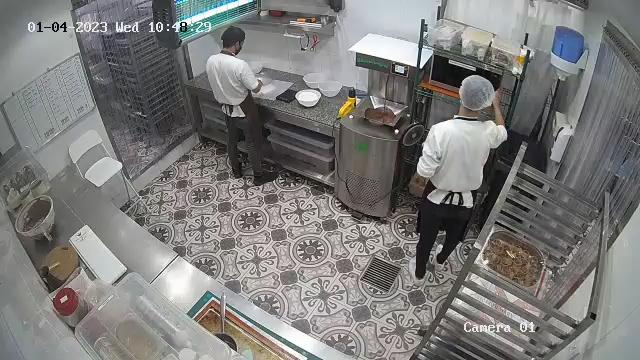apron: (429, 181, 475, 204), (217, 94, 252, 120)
